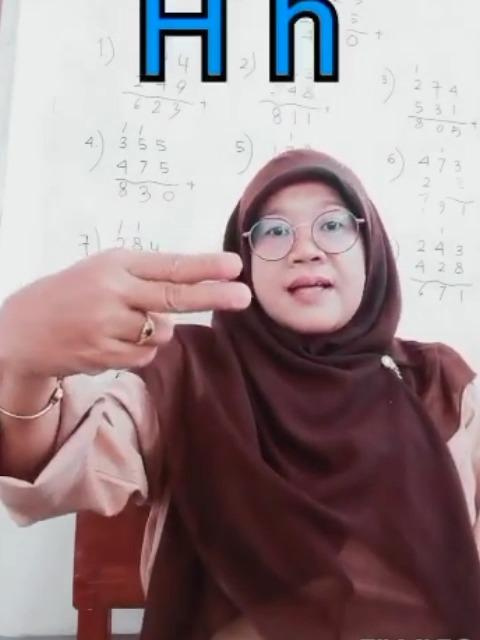H: (0, 245, 252, 382)
